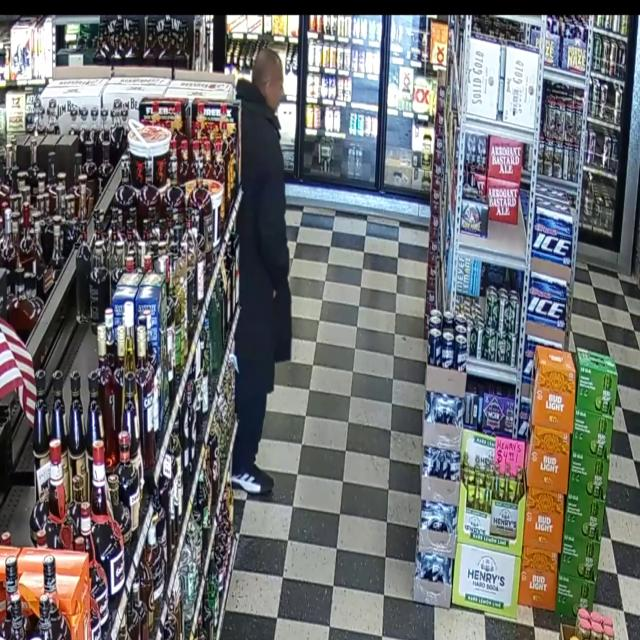normal: (221, 44, 323, 502)
